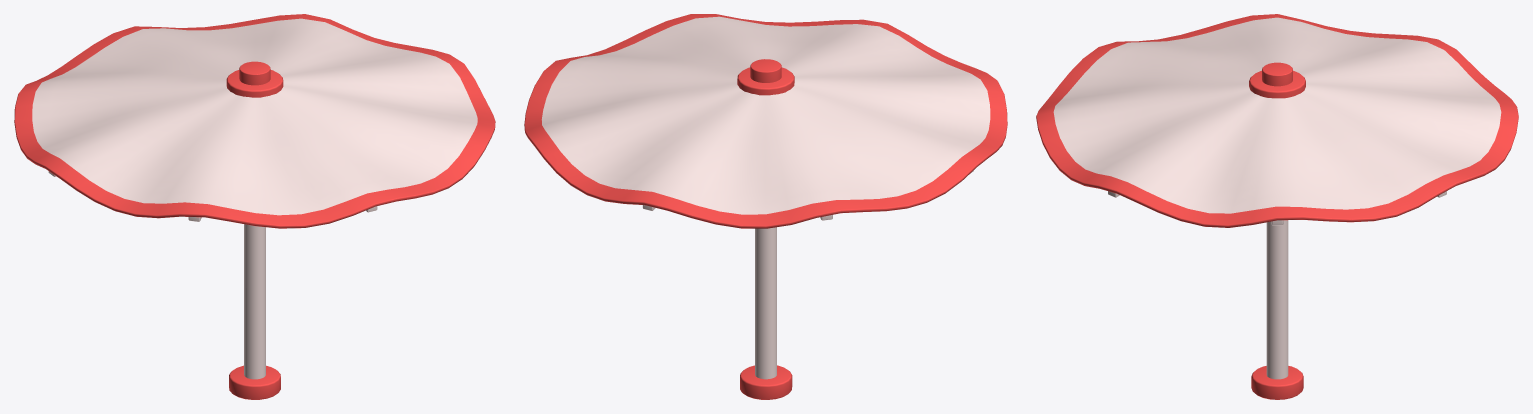
The model's file is Town_13_Umbrella_1.glb.
The picture shows the model from 3 angles, left to right: view 1: azimuth 30°, elevation 25°; view 2: azimuth 150°, elevation 25°; view 3: azimuth 270°, elevation 25°; orthographic projection.
Parts seen in each view (by area): view 1: Town_13_Umbrella_1; view 2: Town_13_Umbrella_1; view 3: Town_13_Umbrella_1.
Boxes of the visible parts, x1,y1,x2,y2 form: Town_13_Umbrella_1: [14, 14, 495, 399]; Town_13_Umbrella_1: [524, 14, 1007, 399]; Town_13_Umbrella_1: [1036, 14, 1518, 399].
Size of the model in its own units: 1.84 by 1.35 by 1.84.
Materials: 1 (1 with a texture image).
